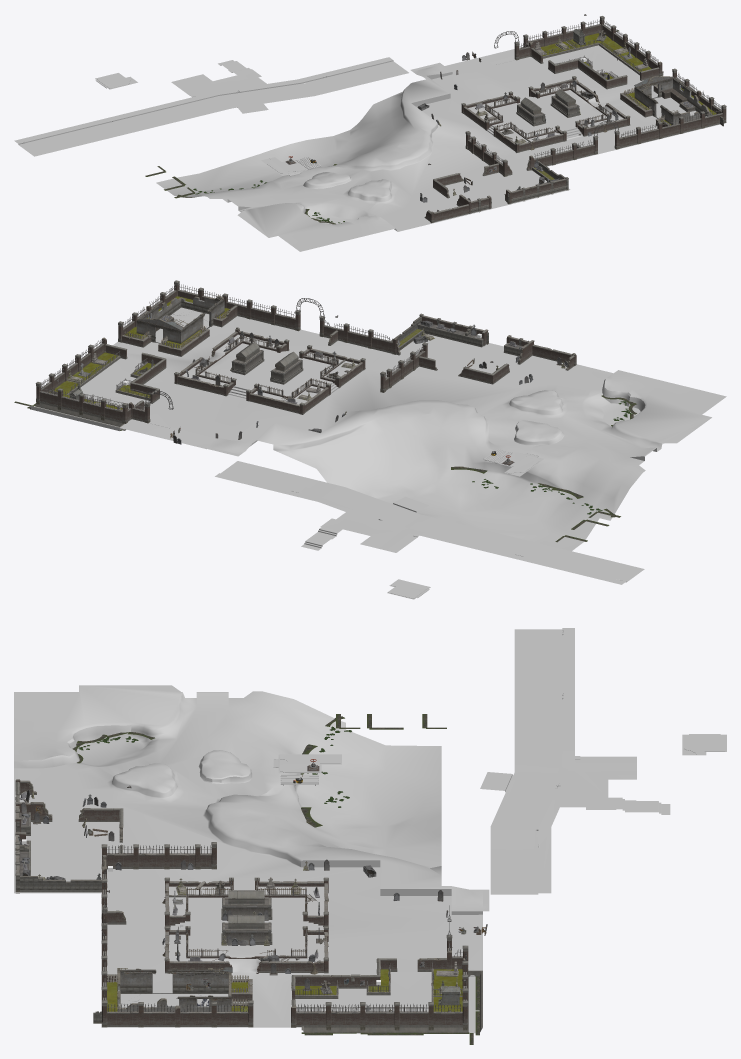
File: Cemetary.fbx
The picture shows the model from 3 angles, top to bottom: view 1: azimuth 30°, elevation 25°; view 2: azimuth 150°, elevation 25°; view 3: azimuth 270°, elevation 25°; orthographic projection. The views are drawn at different scales.
Parts seen in each view (by area): view 1: Cemetery_STR_Base, Cemetery_STR_GraveBase_03_Wall_01, Cemetery_STR_InnerWall_04, Cemetery_STR_OuterWall_03, Cemetery_STR_OuterWall_02, Cemetery_STR_House_01, Cemetery_STR_OuterWall_04, Cemetery_STR_InnerWall_02, Cemetery_STR_OuterWall_02_Fence, Cemetery_STR_GraveBase_03_Wall_01_Fence, Cemetery_STR_OuterWall_02_Grass, Cemetery_STR_GraveBase_03_Wall_02 (+3 smaller); view 2: Cemetery_STR_Base, Cemetery_STR_GraveBase_03_Wall_01, Cemetery_STR_InnerWall_04, Cemetery_STR_OuterWall_02, Cemetery_STR_House_01, Cemetery_STR_OuterWall_04, Cemetery_STR_OuterWall_03, Cemetery_STR_OuterWall_02_Fence, Cemetery_STR_InnerWall_02, Cemetery_STR_GraveBase_03_Wall_01_Fence, Cemetery_STR_House_01_Wall, Cemetery_STR_OuterWall_02_Grass (+5 smaller); view 3: Cemetery_STR_Base, Cemetery_STR_GraveBase_03_Wall_01, Cemetery_STR_OuterWall_02, Cemetery_STR_House_01, Cemetery_STR_InnerWall_04, Cemetery_STR_OuterWall_03, Cemetery_STR_OuterWall_04, Cemetery_STR_InnerWall_02, Cemetery_STR_OuterWall_02_Fence, Cemetery_STR_OuterWall_02_Grass, Bg_Cemetery_STR_Base_Wall_01_1, Cemetery_STR_GraveBase_03_Wall_02 (+2 smaller).
Boxes of the visible parts, x1,y1,x2,y2 form: Cemetery_STR_Base: [14, 45, 726, 251]; Cemetery_STR_GraveBase_03_Wall_01: [461, 76, 630, 152]; Cemetery_STR_InnerWall_04: [433, 160, 568, 213]; Cemetery_STR_OuterWall_03: [614, 68, 726, 149]; Cemetery_STR_OuterWall_02: [514, 16, 662, 76]; Cemetery_STR_House_01: [634, 76, 712, 124]; Cemetery_STR_OuterWall_04: [465, 131, 598, 176]; Cemetery_STR_InnerWall_02: [531, 48, 659, 89]; Cemetery_STR_OuterWall_02_Fence: [519, 19, 658, 77]; Cemetery_STR_GraveBase_03_Wall_01_Fence: [484, 82, 611, 137]; Cemetery_STR_OuterWall_02_Grass: [541, 33, 651, 79]; Cemetery_STR_GraveBase_03_Wall_02: [550, 89, 579, 117]; Cemetery_STR_Base: [30, 307, 726, 599]; Cemetery_STR_GraveBase_03_Wall_01: [174, 327, 365, 414]; Cemetery_STR_InnerWall_04: [391, 313, 534, 384]; Cemetery_STR_OuterWall_02: [35, 337, 150, 423]; Cemetery_STR_House_01: [136, 295, 224, 343]; Cemetery_STR_OuterWall_04: [319, 316, 427, 392]; Cemetery_STR_OuterWall_03: [118, 280, 300, 342]; Cemetery_STR_OuterWall_02_Fence: [40, 338, 150, 411]; Cemetery_STR_InnerWall_02: [105, 344, 166, 409]; Cemetery_STR_GraveBase_03_Wall_01_Fence: [194, 335, 338, 400]; Cemetery_STR_House_01_Wall: [122, 305, 237, 356]; Cemetery_STR_OuterWall_02_Grass: [49, 352, 154, 409]; Cemetery_STR_Base: [14, 628, 726, 1033]; Cemetery_STR_GraveBase_03_Wall_01: [162, 877, 328, 974]; Cemetery_STR_OuterWall_02: [291, 935, 468, 1027]; Cemetery_STR_House_01: [117, 967, 232, 1011]; Cemetery_STR_InnerWall_04: [15, 802, 123, 893]; Cemetery_STR_OuterWall_03: [93, 923, 253, 1027]; Cemetery_STR_OuterWall_04: [101, 842, 216, 924]; Cemetery_STR_InnerWall_02: [291, 958, 446, 1006]; Cemetery_STR_OuterWall_02_Fence: [295, 940, 466, 1012]; Cemetery_STR_OuterWall_02_Grass: [295, 969, 462, 1011]; Bg_Cemetery_STR_Base_Wall_01_1: [301, 970, 482, 1033]; Cemetery_STR_GraveBase_03_Wall_02: [221, 915, 272, 944].
Size of the model in its own units: 12268 by 1324 by 8973.
